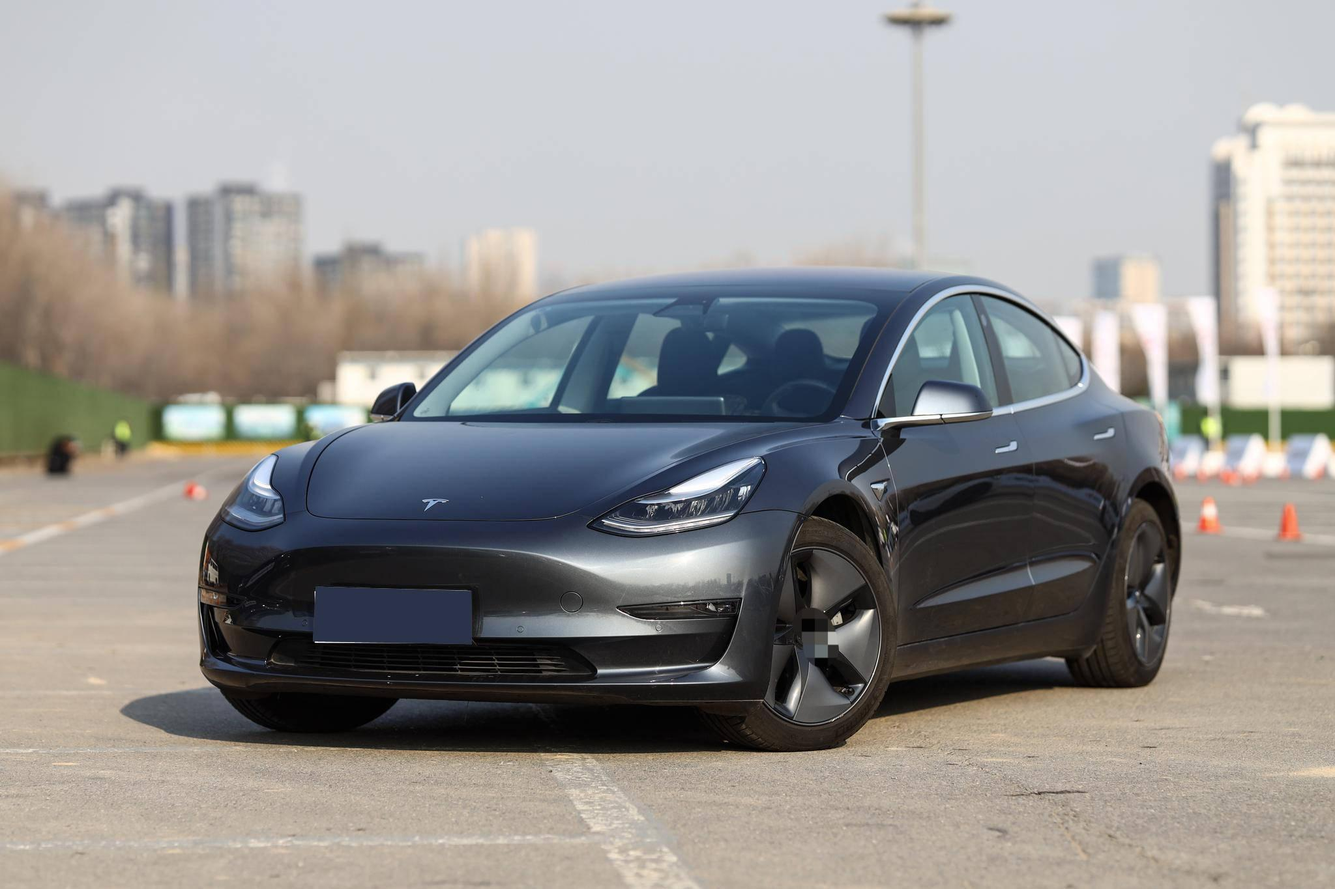Tesla: (422, 498, 449, 511)
